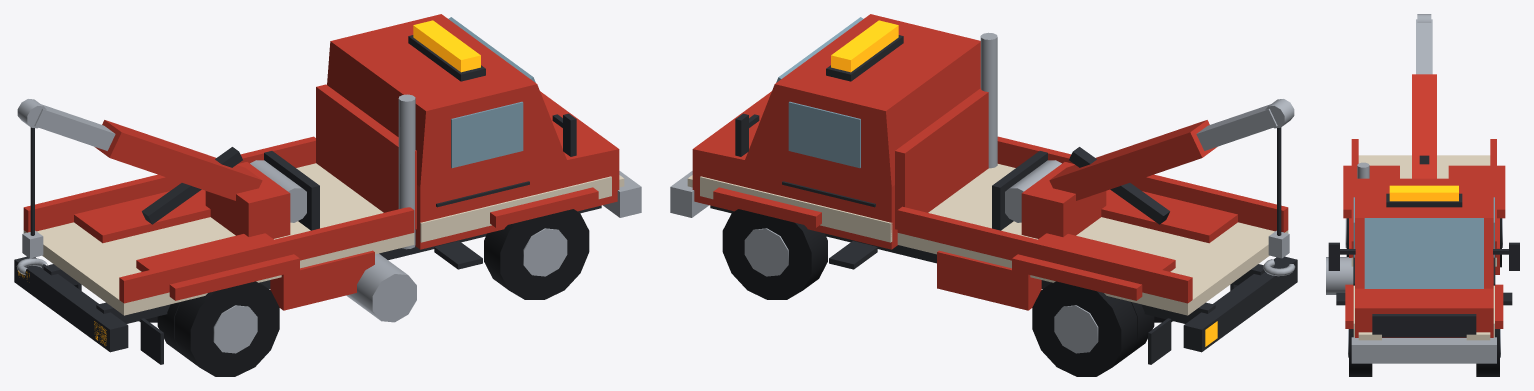
Rendered from depanneuse.glb.
3 renders of one model, left to right at view 1: azimuth 30°, elevation 25°; view 2: azimuth 150°, elevation 25°; view 3: azimuth 270°, elevation 25°, orthographic. The views are drawn at different scales.
Parts seen in each view (by area): view 1: cab_shell, deck, deck_rail_left, headache_rack, wheel_rear_left_tire, wheel_front_left_tire, boom_main, deck_rail_right, fender_rear_left, rear_bumper, boom_pedestal, window_left (+23 smaller); view 2: cab_shell, deck, headache_rack, deck_rail_right, wheel_rear_right_tire, wheel_front_right_tire, boom_main, deck_rail_left, fender_rear_right, toolbox_right, rear_bumper, boom_pedestal (+22 smaller); view 3: cab_shell, windshield, bumper, boom_main, grille, deck, beacon_bar, fender_rear_right, fender_rear_left, boom_extension, fuel_tank, beacon_base (+12 smaller).
Part boxes in pixels (x1=…): cab_shell: x1=327, y1=14, x2=619, y2=249; deck: x1=23, y1=163, x2=414, y2=315; deck_rail_left: x1=119, y1=207, x2=414, y2=303; headache_rack: x1=316, y1=84, x2=416, y2=229; wheel_rear_left_tire: x1=174, y1=281, x2=279, y2=376; wheel_front_left_tire: x1=484, y1=209, x2=589, y2=299; boom_main: x1=95, y1=120, x2=262, y2=200; deck_rail_right: x1=23, y1=136, x2=315, y2=232; fender_rear_left: x1=136, y1=233, x2=299, y2=300; rear_bumper: x1=14, y1=256, x2=128, y2=352; boom_pedestal: x1=205, y1=162, x2=290, y2=238; window_left: x1=451, y1=101, x2=523, y2=168; cab_shell: x1=692, y1=14, x2=980, y2=249; deck: x1=897, y1=164, x2=1288, y2=315; headache_rack: x1=895, y1=88, x2=988, y2=229; deck_rail_right: x1=897, y1=206, x2=1192, y2=303; wheel_rear_right_tire: x1=1032, y1=281, x2=1137, y2=376; wheel_front_right_tire: x1=722, y1=209, x2=827, y2=299; boom_main: x1=1049, y1=120, x2=1216, y2=200; deck_rail_left: x1=997, y1=136, x2=1288, y2=232; fender_rear_right: x1=1012, y1=233, x2=1175, y2=300; toolbox_right: x1=937, y1=250, x2=1041, y2=310; rear_bumper: x1=1183, y1=256, x2=1297, y2=352; boom_pedestal: x1=1021, y1=162, x2=1106, y2=238; cab_shell: x1=1355, y1=178, x2=1493, y2=337; windshield: x1=1364, y1=218, x2=1483, y2=288; bumper: x1=1351, y1=337, x2=1496, y2=363; boom_main: x1=1412, y1=74, x2=1436, y2=178; grille: x1=1372, y1=314, x2=1476, y2=337; deck: x1=1351, y1=155, x2=1496, y2=266; beacon_bar: x1=1389, y1=185, x2=1458, y2=201; fender_rear_right: x1=1448, y1=165, x2=1505, y2=218; fender_rear_left: x1=1343, y1=165, x2=1399, y2=218; boom_extension: x1=1416, y1=19, x2=1432, y2=74; fuel_tank: x1=1326, y1=257, x2=1353, y2=294; beacon_base: x1=1386, y1=193, x2=1462, y2=207.
Size of the model in its own units: 6.9 by 3.13 by 2.8.
